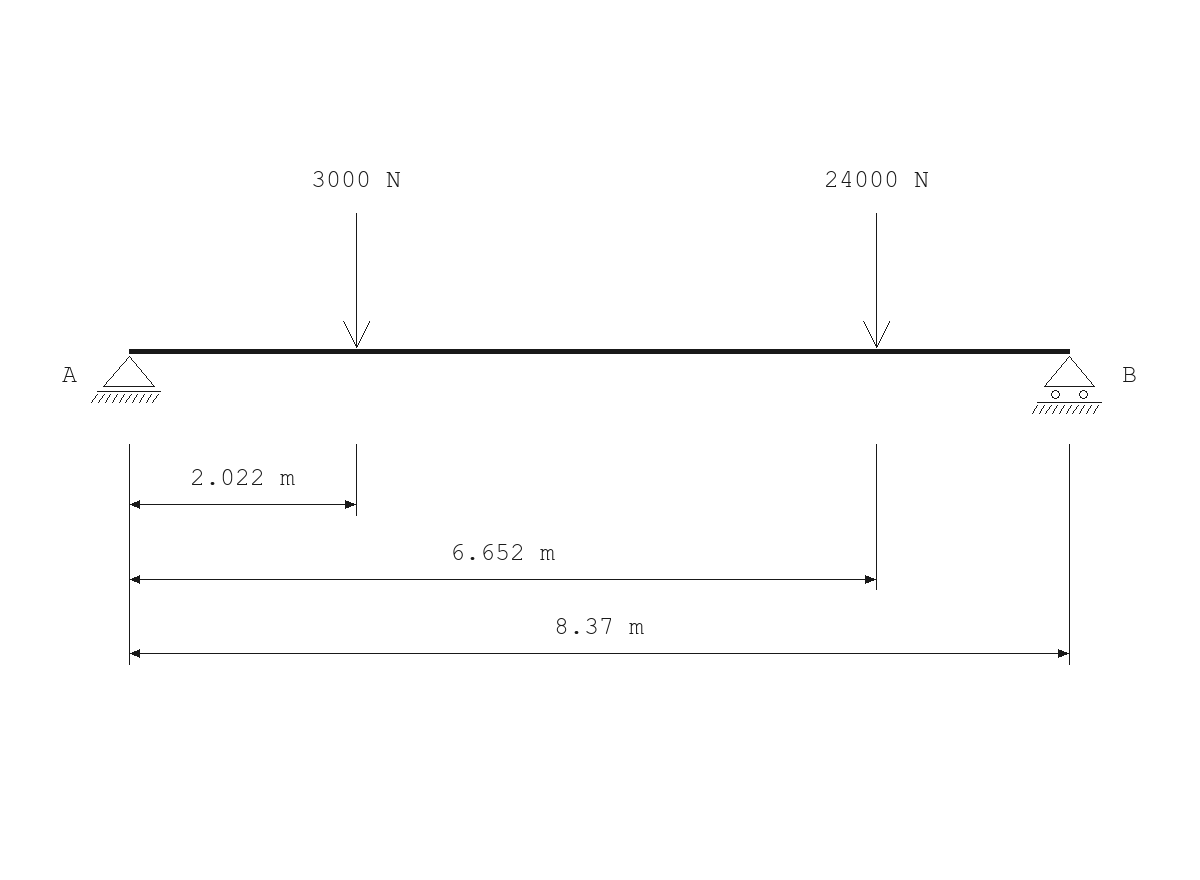pin_support: (91, 356, 161, 403)
point_load: (343, 213, 370, 348), (863, 213, 890, 348)
roller_support: (1032, 356, 1102, 414)
